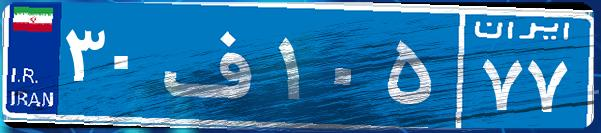0: (330, 28, 385, 110), (110, 28, 158, 105)
1: (273, 28, 330, 110)
3: (57, 26, 110, 107)
5: (385, 28, 445, 110)
7: (475, 38, 525, 113), (525, 38, 570, 115)
ف: (158, 15, 273, 115)
